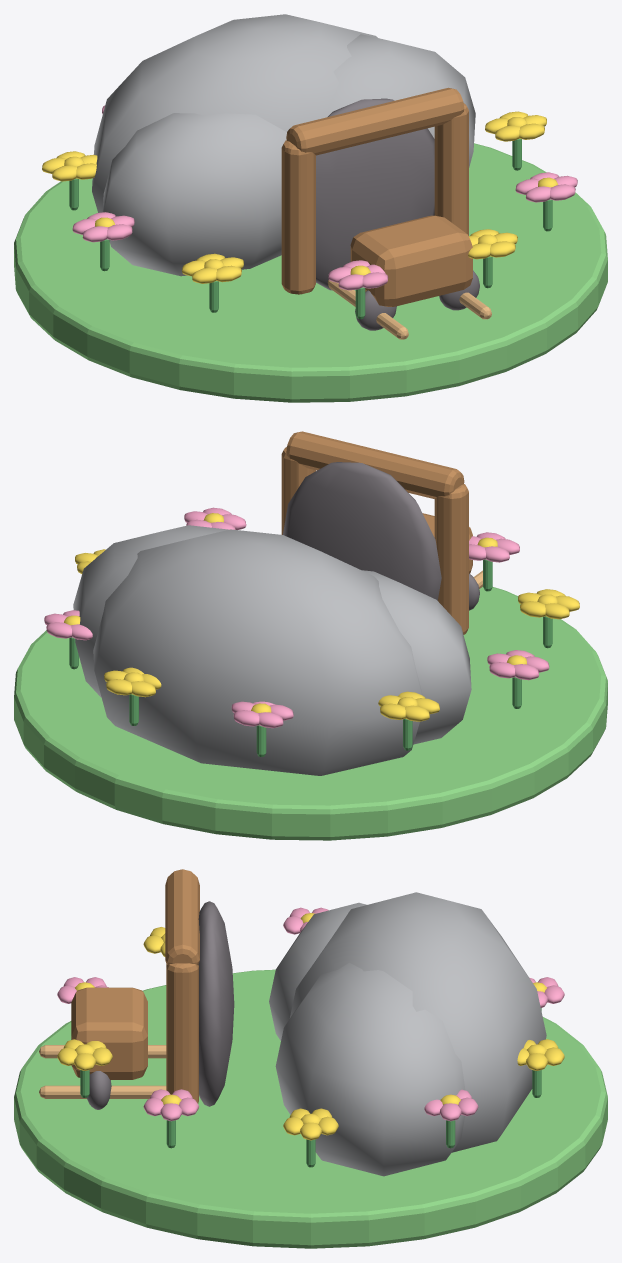
Rendered from region_mine.glb.
The picture shows the model from 3 angles, top to bottom: view 1: azimuth 30°, elevation 25°; view 2: azimuth 150°, elevation 25°; view 3: azimuth 270°, elevation 25°; orthographic projection.
Parts seen in each view (by area): view 1: round grassy plot, faceted rock hill.001, faceted rock hill, dark mine opening, ore cart, faceted rock hill.002, timber lintel, timber mine support, timber mine support.001, cart rail.001, wheel, wheel.001; view 2: round grassy plot, faceted rock hill, dark mine opening, faceted rock hill.001, faceted rock hill.002, timber lintel, timber mine support, timber mine support.001; view 3: round grassy plot, faceted rock hill.002, faceted rock hill, dark mine opening, ore cart, timber mine support.001, faceted rock hill.001, timber lintel, cart rail, wheel.001, cart rail.001.
Boxes of the visible parts, x1,y1,x2,y2 form: round grassy plot: (14, 143, 607, 402); faceted rock hill.001: (102, 113, 286, 276); faceted rock hill: (92, 14, 377, 212); dark mine opening: (316, 98, 434, 290); ore cart: (350, 215, 472, 306); faceted rock hill.002: (328, 34, 475, 167); timber lintel: (286, 87, 464, 155); timber mine support: (281, 140, 315, 294); timber mine support.001: (434, 103, 468, 235); cart rail.001: (327, 280, 408, 339); wheel: (355, 290, 396, 330); wheel.001: (439, 270, 479, 310); round grassy plot: (14, 587, 607, 840); faceted rock hill: (93, 529, 422, 775); dark mine opening: (283, 462, 441, 600); faceted rock hill.001: (362, 570, 471, 744); faceted rock hill.002: (73, 525, 228, 697); timber lintel: (286, 431, 464, 498); timber mine support: (434, 484, 468, 634); timber mine support.001: (281, 447, 315, 534); round grassy plot: (14, 969, 607, 1248); faceted rock hill.002: (275, 962, 465, 1176); faceted rock hill: (289, 892, 546, 1152); dark mine opening: (198, 901, 234, 1106); ore cart: (71, 987, 147, 1079); timber mine support.001: (166, 963, 198, 1103); faceted rock hill.001: (269, 902, 366, 1040); timber lintel: (165, 869, 199, 964); cart rail: (39, 1085, 166, 1098); wheel.001: (87, 1071, 111, 1109); cart rail.001: (39, 1045, 166, 1058).
Bounding box in the file's own units: 3.1 × 1.44 × 3.1.
